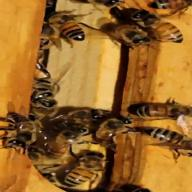Bee: (48, 144, 116, 192), (108, 7, 186, 47), (27, 72, 72, 113), (53, 10, 95, 46), (125, 98, 192, 117), (132, 128, 192, 144)
